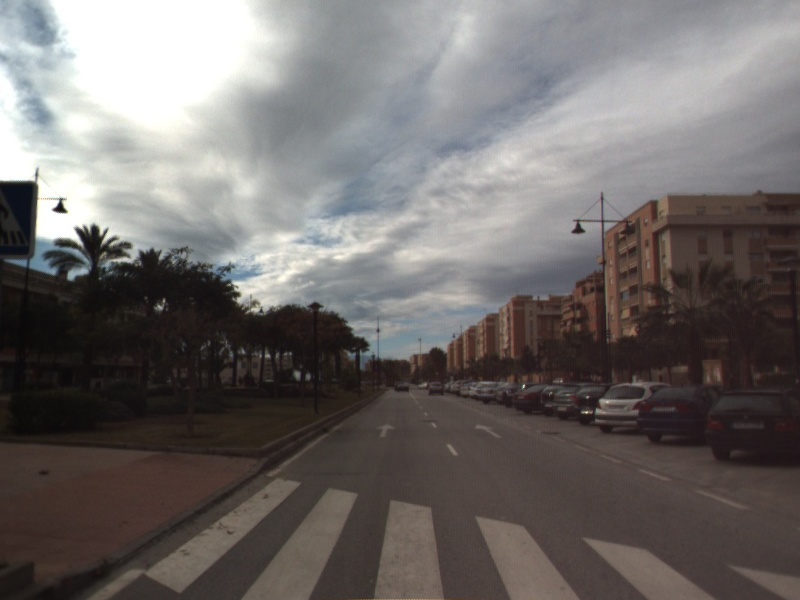STRAIGHT: (473, 422, 504, 440), (374, 422, 397, 439)
